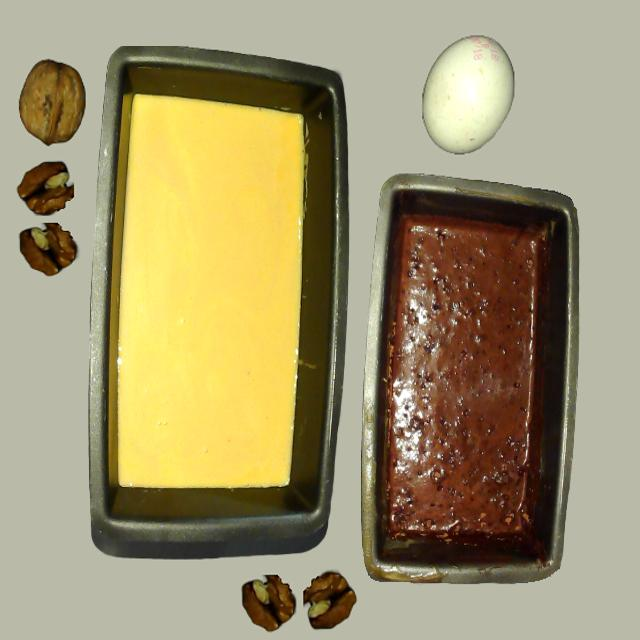Walnut: (18, 59, 85, 146)
